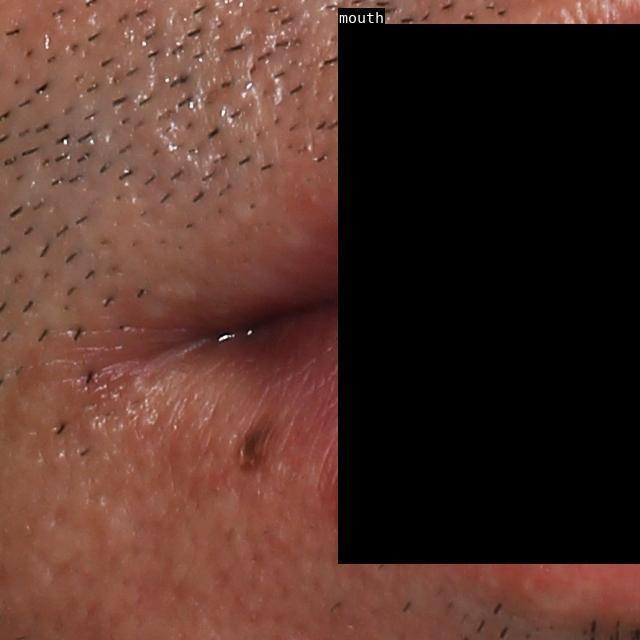nevus: (236, 416, 288, 480)
